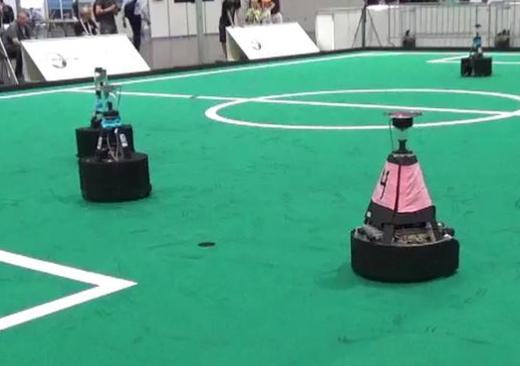robot: (349, 107, 461, 283), (74, 81, 153, 202), (457, 20, 497, 80)
